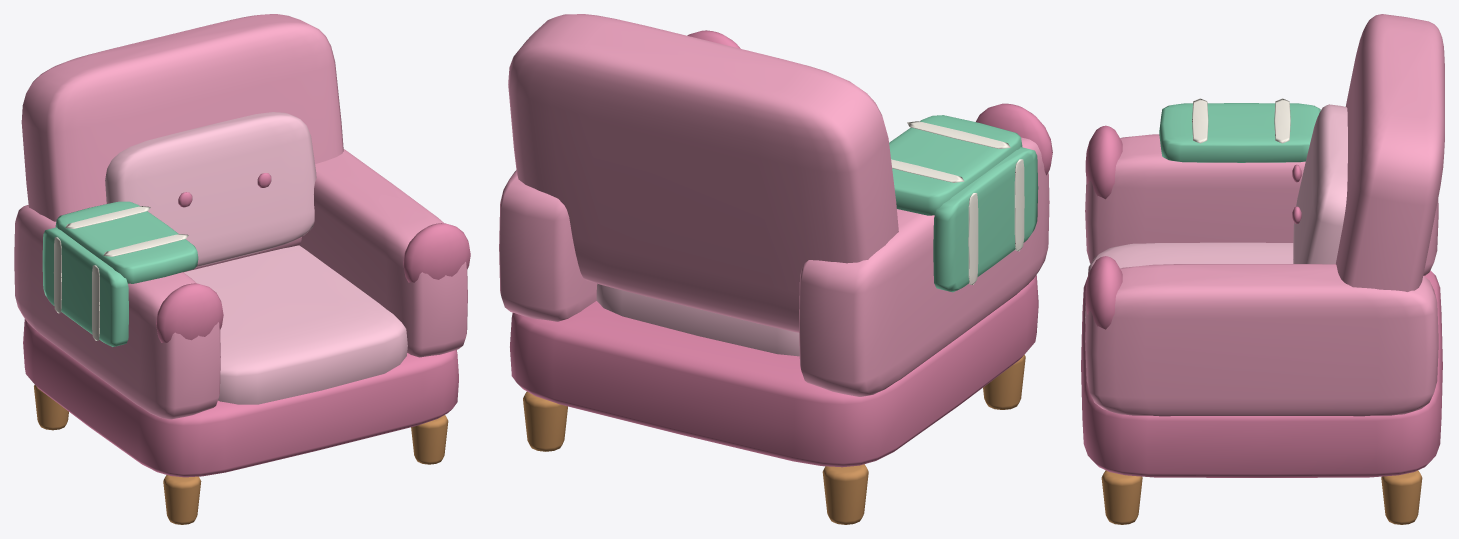
Rendered from armchair.glb.
The picture shows the model from 3 angles, left to right: view 1: azimuth 30°, elevation 25°; view 2: azimuth 150°, elevation 25°; view 3: azimuth 270°, elevation 25°; orthographic projection. The views are drawn at different scales.
Parts seen in each view (by area): view 1: armchair; view 2: armchair; view 3: armchair.
Boxes of the visible parts, x1=… form: armchair: x1=14, y1=14, x2=470, y2=524; armchair: x1=499, y1=14, x2=1052, y2=524; armchair: x1=1081, y1=14, x2=1444, y2=524.
Size of the model in its own units: 1 by 1.03 by 0.885.
Materials: 1 (1 with a texture image).
